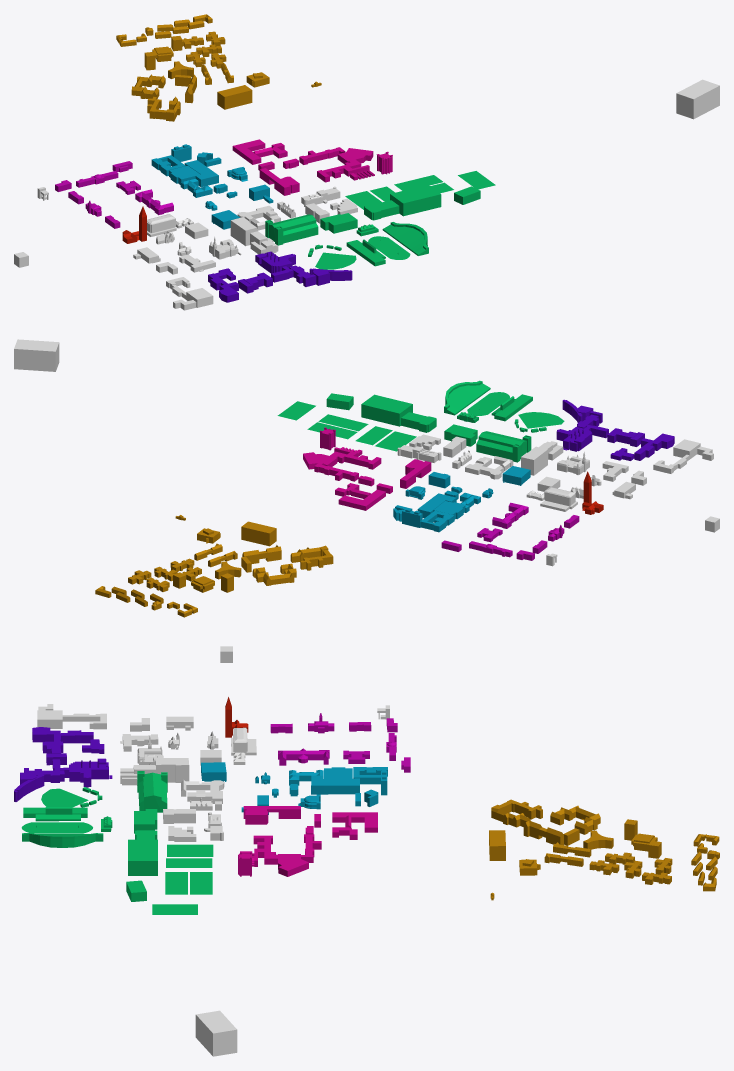
The model's file is campus.dae.
The picture shows the model from 3 angles, top to bottom: view 1: azimuth 30°, elevation 25°; view 2: azimuth 150°, elevation 25°; view 3: azimuth 270°, elevation 25°; orthographic projection. The views are drawn at different scales.
Parts seen in each view (by area): view 1: Shoellkopf_Feild, Lynah_Rink_and_Bartels_Hall, Cube_001, Barton_Hall, Alumni_Fields, The_Low_Rises, The_Townhouses, Statler_Hall_and_Hotel, Taylor_Taylor_and_Hughes_Halls, Physical_Sciences_Building___Clarke_Hall, Van_Rensselaer_Complex, Plant_Science_Building_and_Greenhouses (+12 smaller); view 2: Shoellkopf_Feild, Lynah_Rink_and_Bartels_Hall, Alumni_Fields, Cube_001, Barton_Hall, The_Low_Rises, The_Townhouses, Taylor_Taylor_and_Hughes_Halls, Van_Rensselaer_Complex, Statler_Hall_and_Hotel, Baker___S_T__Olin_Labratories, Balch_Hall (+18 smaller); view 3: Shoellkopf_Feild, Alumni_Fields, Cube_001, The_Low_Rises, Lynah_Rink_and_Bartels_Hall, Statler_Hall_and_Hotel, Physical_Sciences_Building___Clarke_Hall, Barton_Hall, Taylor_Taylor_and_Hughes_Halls, The_Townhouses, Balch_Hall, Duffield_Hall (+9 smaller).
Boxes of the visible parts, bbox=[...] form: Shoellkopf_Feild: bbox=[346, 222, 428, 266]; Lynah_Rink_and_Bartels_Hall: bbox=[364, 185, 441, 220]; Cube_001: bbox=[676, 79, 719, 119]; Barton_Hall: bbox=[265, 214, 318, 245]; Alumni_Fields: bbox=[345, 175, 453, 209]; The_Low_Rises: bbox=[182, 31, 226, 68]; The_Townhouses: bbox=[116, 14, 212, 46]; Statler_Hall_and_Hotel: bbox=[230, 217, 278, 254]; Taylor_Taylor_and_Hughes_Halls: bbox=[166, 277, 213, 310]; Physical_Sciences_Building___Clarke_Hall: bbox=[169, 160, 218, 187]; Van_Rensselaer_Complex: bbox=[232, 139, 287, 164]; Plant_Science_Building_and_Greenhouses: bbox=[317, 159, 374, 182]; Shoellkopf_Feild: bbox=[444, 380, 532, 422]; Lynah_Rink_and_Bartels_Hall: bbox=[361, 394, 436, 432]; Alumni_Fields: bbox=[307, 414, 416, 451]; Cube_001: bbox=[14, 339, 59, 371]; Barton_Hall: bbox=[476, 431, 531, 462]; The_Low_Rises: bbox=[128, 558, 201, 591]; The_Townhouses: bbox=[95, 586, 197, 617]; Taylor_Taylor_and_Hughes_Halls: bbox=[653, 439, 713, 473]; Van_Rensselaer_Complex: bbox=[335, 483, 385, 510]; Statler_Hall_and_Hotel: bbox=[521, 441, 563, 475]; Baker___S_T__Olin_Labratories: bbox=[402, 508, 454, 532]; Balch_Hall: bbox=[290, 545, 333, 570]; Shoellkopf_Feild: bbox=[21, 807, 112, 847]; Alumni_Fields: bbox=[165, 844, 213, 894]; Cube_001: bbox=[195, 1010, 237, 1056]; The_Low_Rises: bbox=[589, 852, 672, 884]; Lynah_Rink_and_Bartels_Hall: bbox=[128, 830, 157, 875]; Statler_Hall_and_Hotel: bbox=[120, 758, 189, 785]; Physical_Sciences_Building___Clarke_Hall: bbox=[311, 767, 359, 794]; Barton_Hall: bbox=[137, 771, 167, 812]; Taylor_Taylor_and_Hughes_Halls: bbox=[37, 704, 106, 729]; The_Townhouses: bbox=[691, 834, 719, 891]; Balch_Hall: bbox=[491, 799, 542, 827]; Duffield_Hall: bbox=[59, 758, 112, 787].
Bounding box in the file's own units: 50.28 × 38.2 × 2.39.
